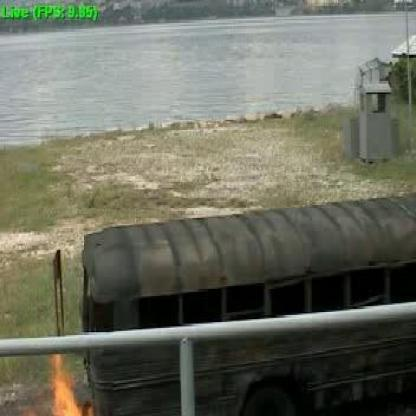Fire: (47, 351, 90, 416)
